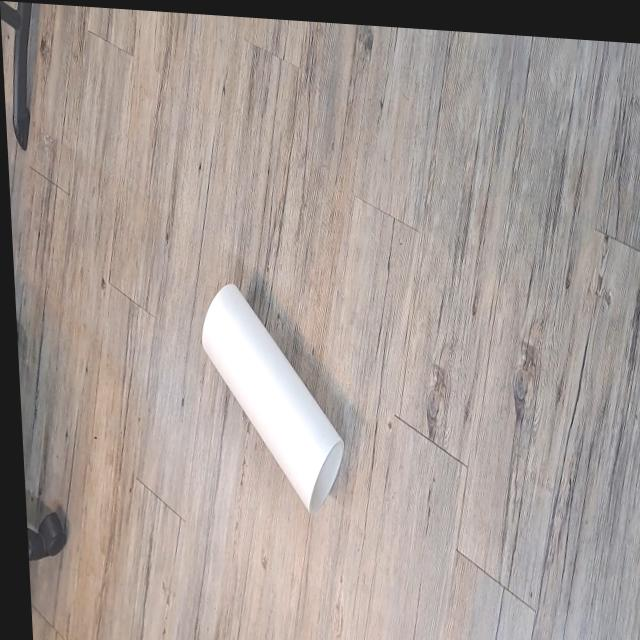CORAL: (190, 267, 361, 525)
